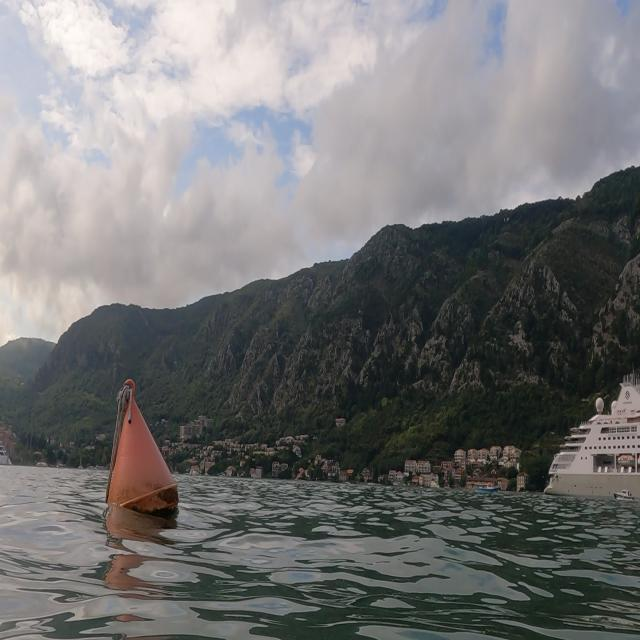boat: (526, 361, 640, 507)
buoy: (100, 366, 190, 540)
